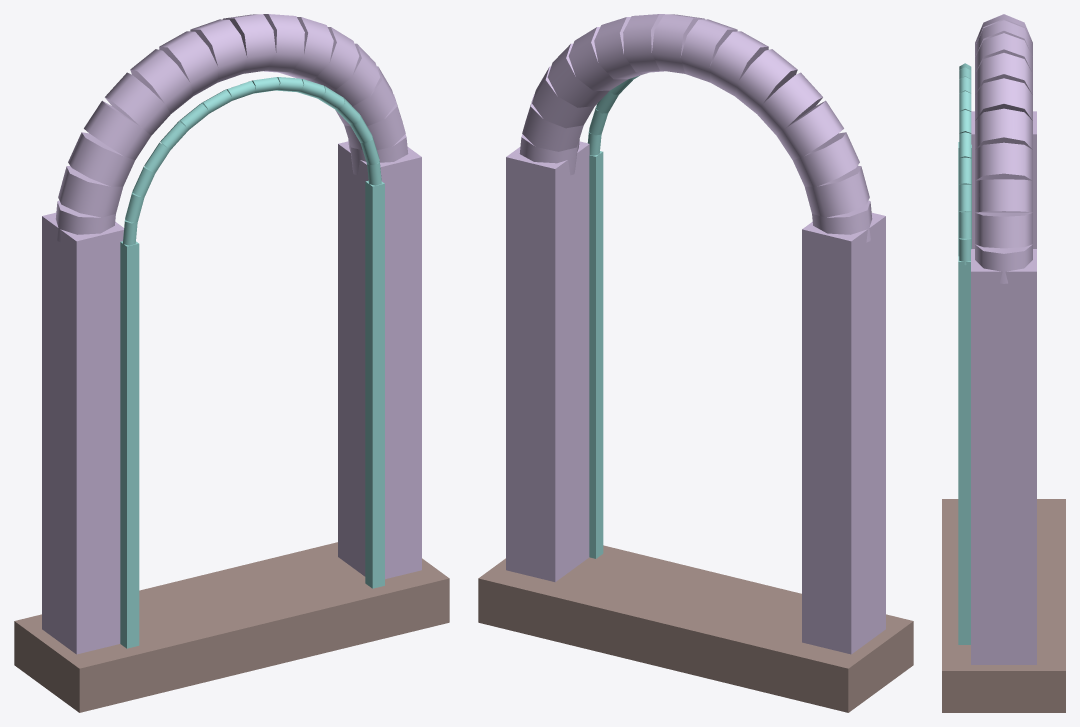
The model's file is 16_portal_amigo.glb.
3 views of the same model, side by side, from view 1: azimuth 30°, elevation 25°; view 2: azimuth 150°, elevation 25°; view 3: azimuth 270°, elevation 25° (orthographic). The views are drawn at different scales.
Visible parts, largest first — view 1: body (×3); view 2: body (×3); view 3: body (×3).
Boxes of the visible parts, <box> form: body (×3): <box>14,14,449,712</box>; body (×3): <box>478,14,913,712</box>; body (×3): <box>942,14,1065,712</box>.
Bounding box in the file's own units: 1.05 × 1.69 × 0.32.
